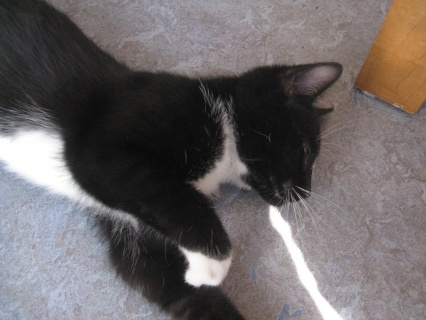Cat: (0, 0, 361, 319)
